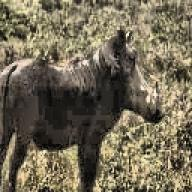boar: (0, 27, 164, 192)
